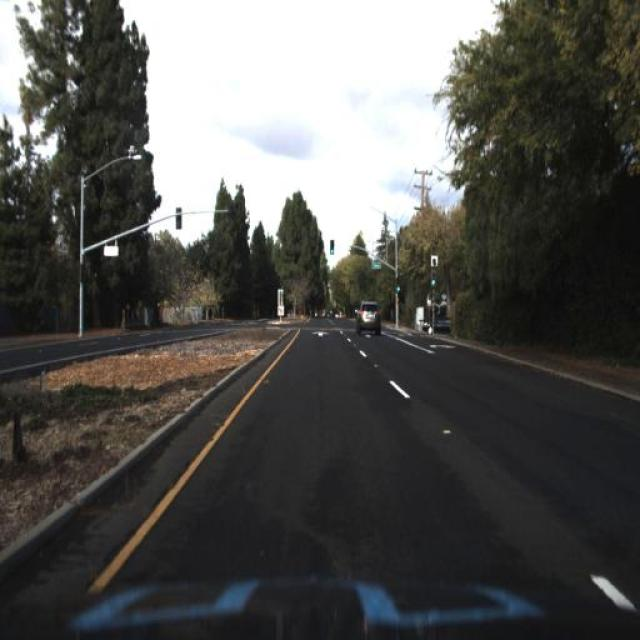car: (421, 311, 463, 337), (420, 310, 456, 335), (358, 300, 382, 334)
trafficLight-GreenLeft: (326, 238, 336, 260), (430, 266, 440, 288), (394, 274, 402, 297), (328, 237, 336, 257), (395, 281, 403, 297), (429, 273, 435, 293)
